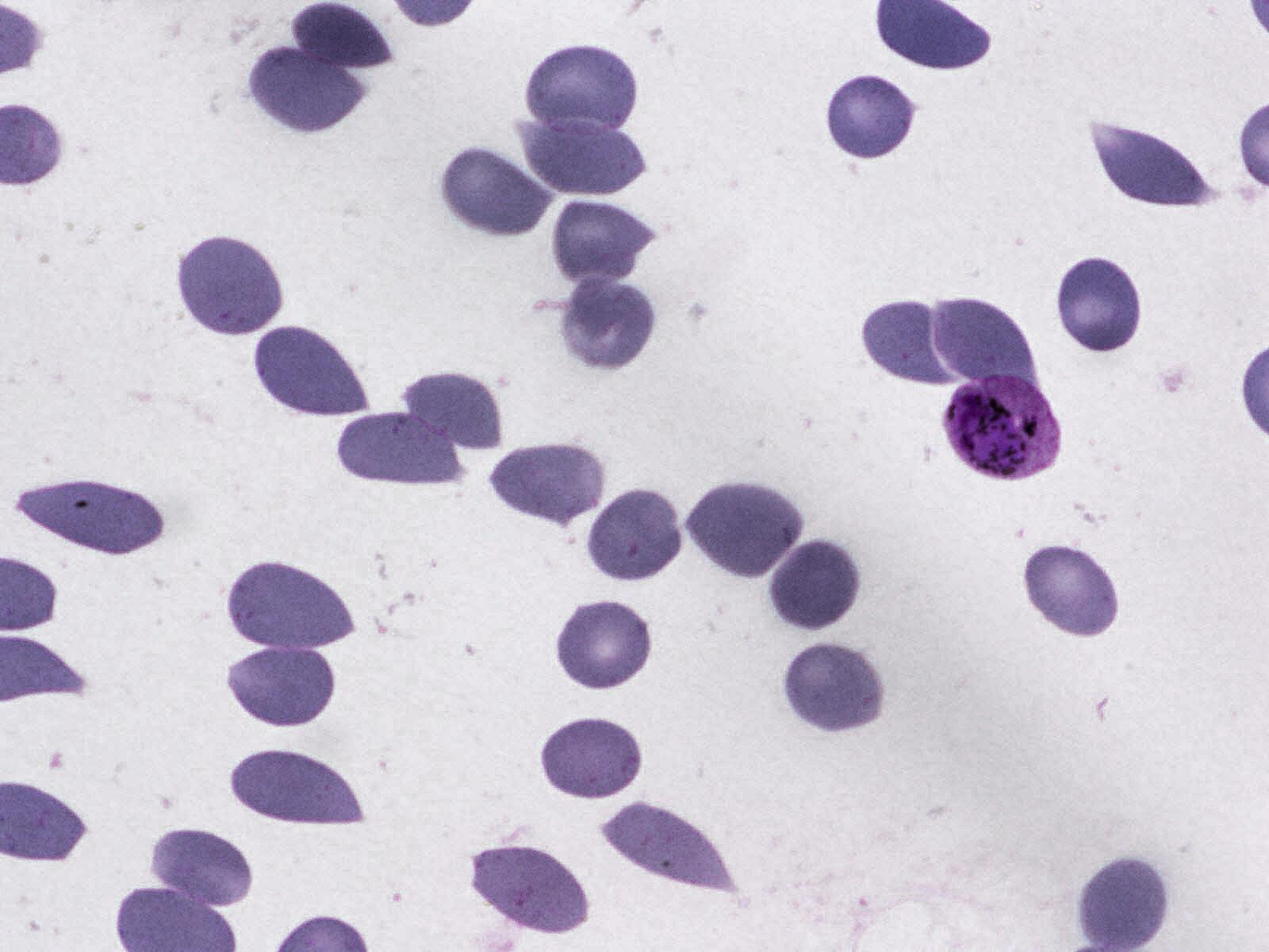Infected: (940, 374, 1062, 477)
Uninfected: (600, 803, 740, 897), (229, 562, 362, 651), (257, 321, 377, 419), (685, 479, 803, 578), (228, 748, 370, 828), (176, 233, 286, 336), (330, 403, 462, 488), (1091, 123, 1221, 208), (21, 480, 170, 554), (439, 142, 555, 236), (488, 438, 607, 528), (473, 843, 586, 935), (782, 637, 886, 735), (517, 118, 651, 194), (529, 40, 640, 131), (584, 486, 686, 584), (535, 713, 648, 800), (1074, 850, 1171, 951), (248, 46, 366, 129), (554, 597, 655, 693), (766, 532, 861, 634), (227, 640, 336, 728), (1057, 251, 1145, 359), (1024, 541, 1120, 639), (929, 296, 1033, 386), (558, 274, 653, 372), (146, 826, 258, 909), (860, 293, 960, 384), (400, 370, 508, 454), (553, 198, 652, 283), (828, 72, 917, 163), (287, 1, 396, 68)
